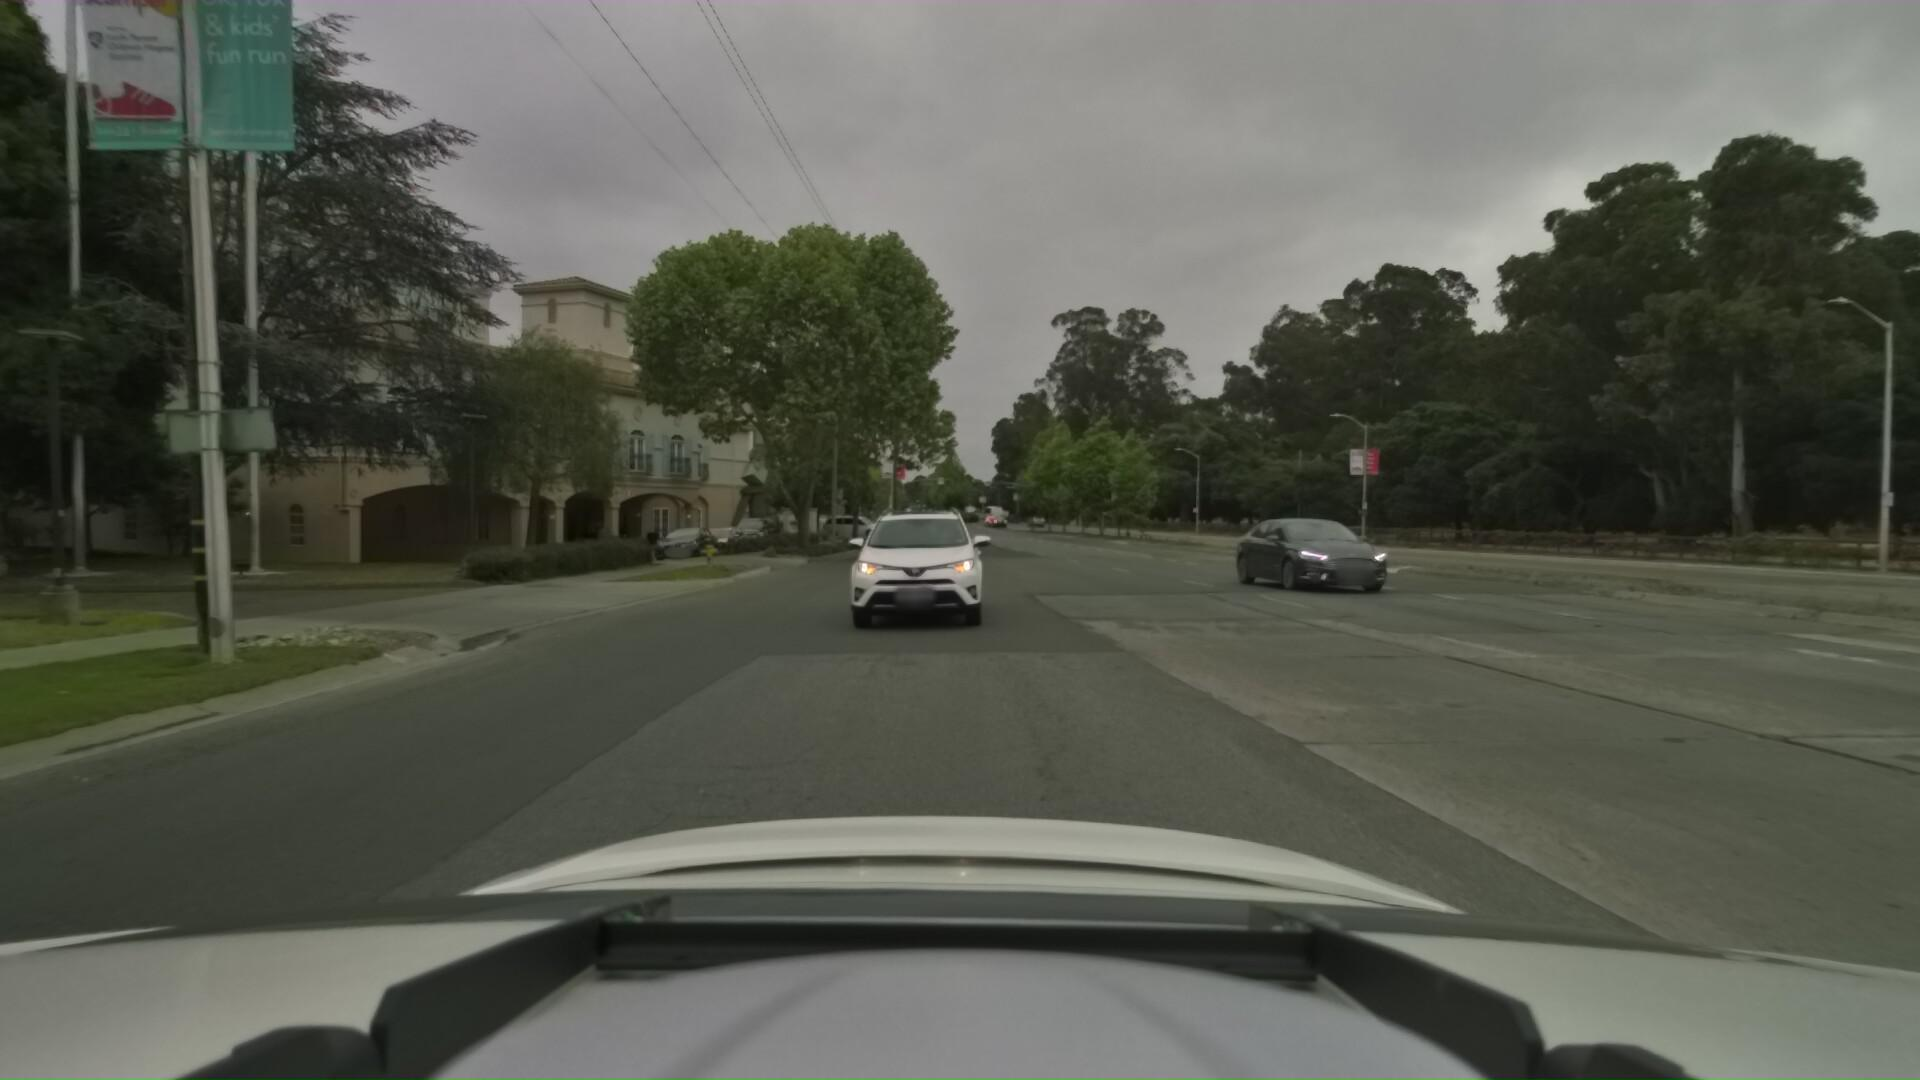car: (828, 497, 997, 640), (1204, 502, 1367, 585), (658, 518, 728, 551), (727, 509, 787, 546), (695, 518, 756, 553), (814, 508, 887, 535)
